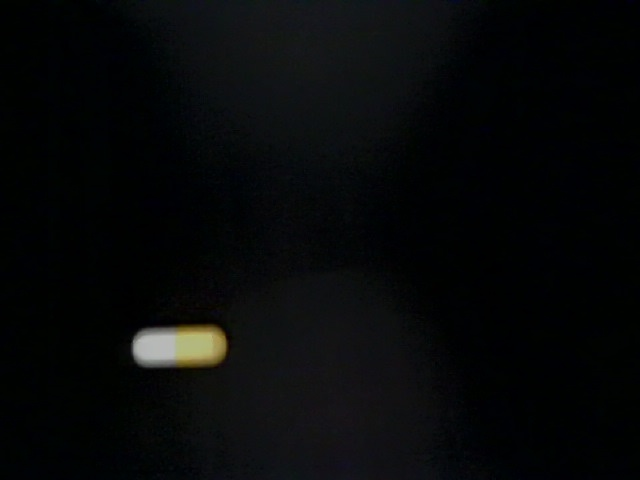YHLJ: (287, 395, 446, 461)
